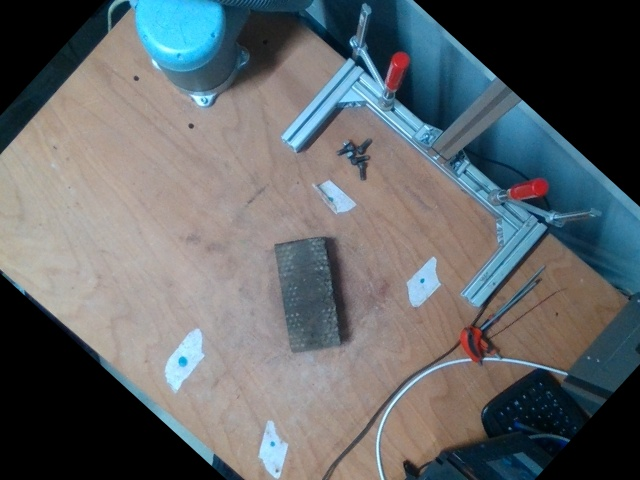brick: (273, 237, 340, 354)
